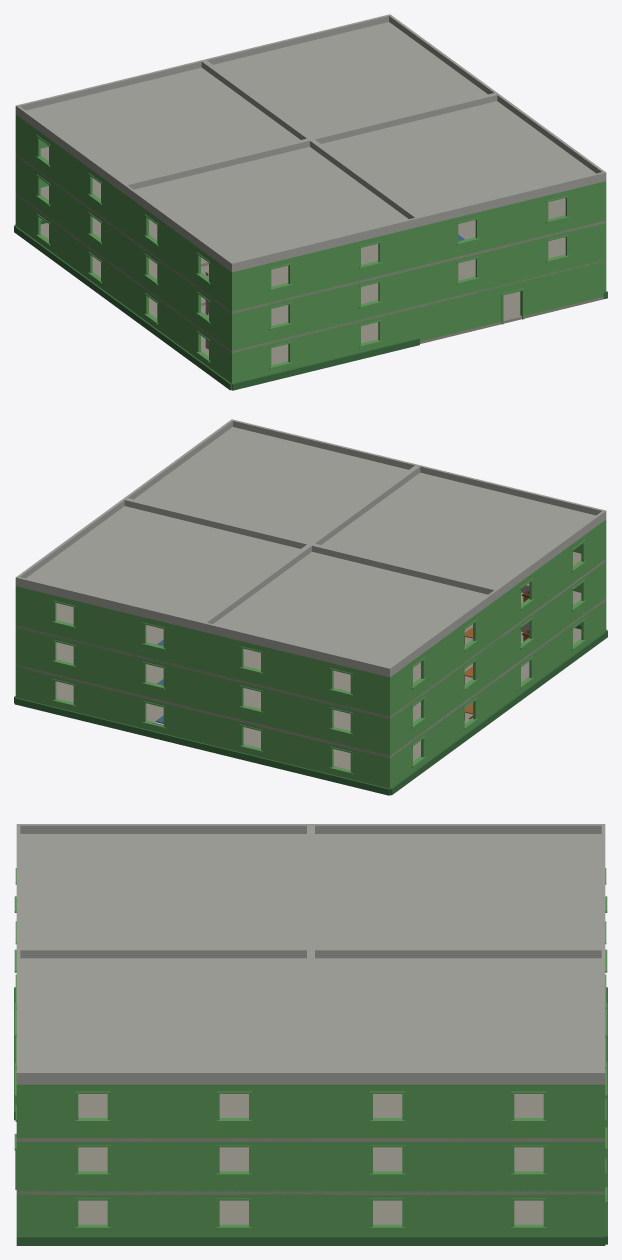
The model's file is apartment_green.glb.
The picture shows the model from 3 angles, top to bottom: view 1: azimuth 30°, elevation 25°; view 2: azimuth 150°, elevation 25°; view 3: azimuth 270°, elevation 25°; orthographic projection. The views are drawn at different scales.
Parts seen in each view (by area): view 1: apartment_green; view 2: apartment_green; view 3: apartment_green.
Part boxes in pixels (left/top/right/bottom): apartment_green: left=14, top=14, right=607, bottom=390; apartment_green: left=14, top=419, right=607, bottom=795; apartment_green: left=14, top=824, right=607, bottom=1245.
Size of the model in its own units: 30.26 by 9.66 by 30.26.
